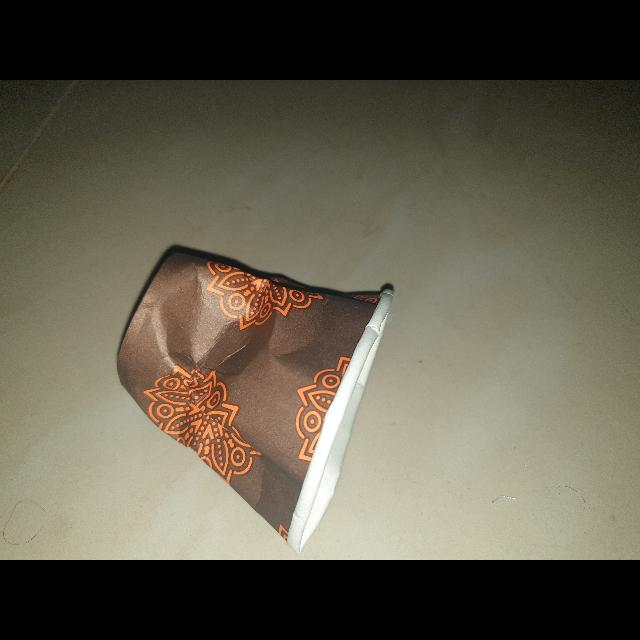trash: (112, 238, 402, 560)
